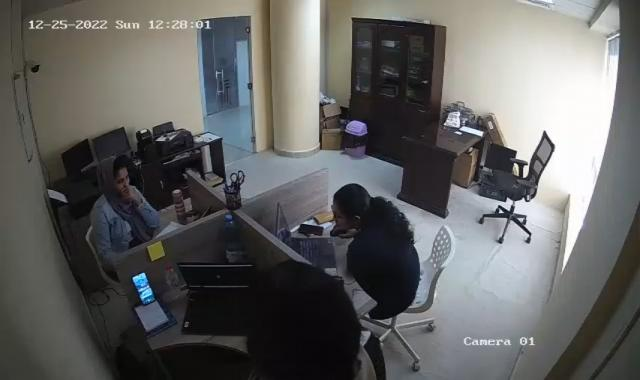no_hairnet: (243, 257, 359, 378), (329, 184, 379, 237), (92, 156, 133, 189)
